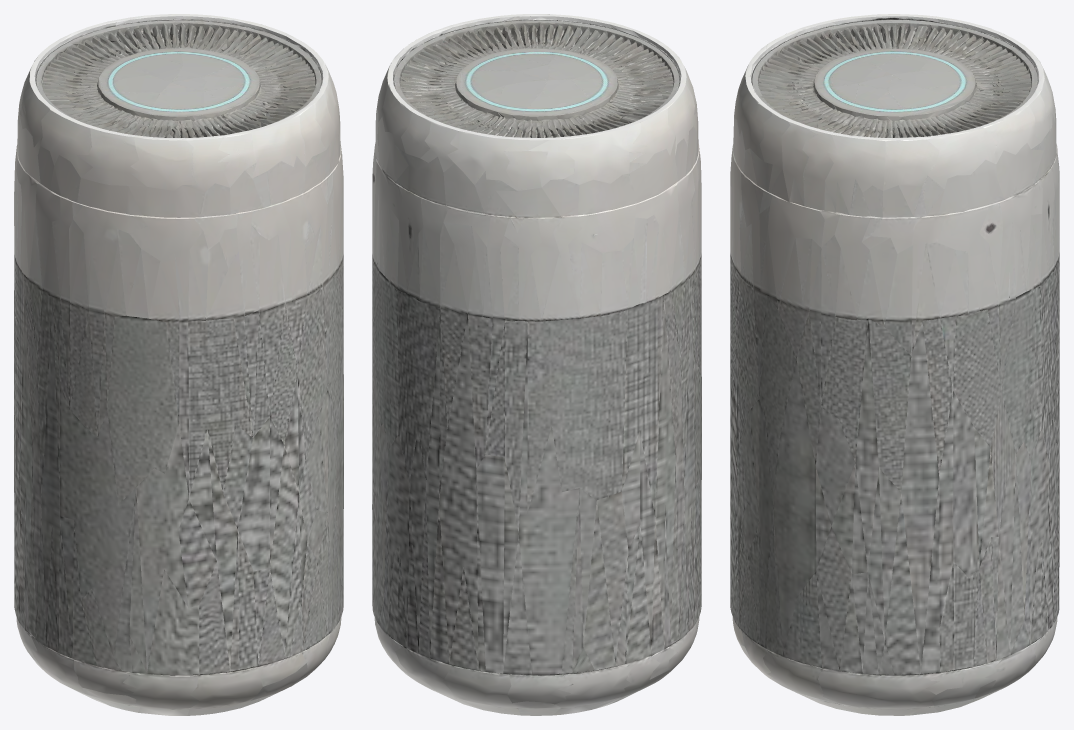
The model's file is modelo.glb.
3 views of the same model, side by side, from view 1: azimuth 30°, elevation 25°; view 2: azimuth 150°, elevation 25°; view 3: azimuth 270°, elevation 25° (orthographic).
Size of the model in its own units: 0.3008 by 0.5965 by 0.3009.
Materials: 1 (1 with a texture image).
